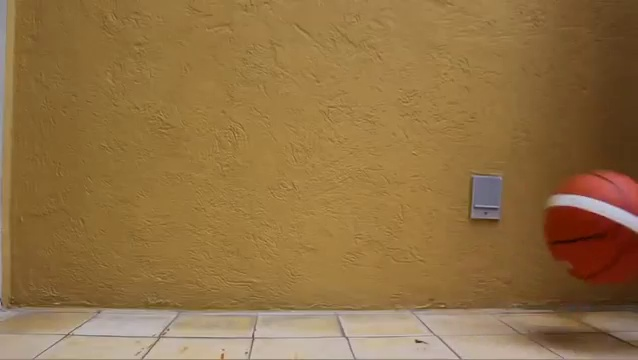ball: (544, 171, 638, 285)
